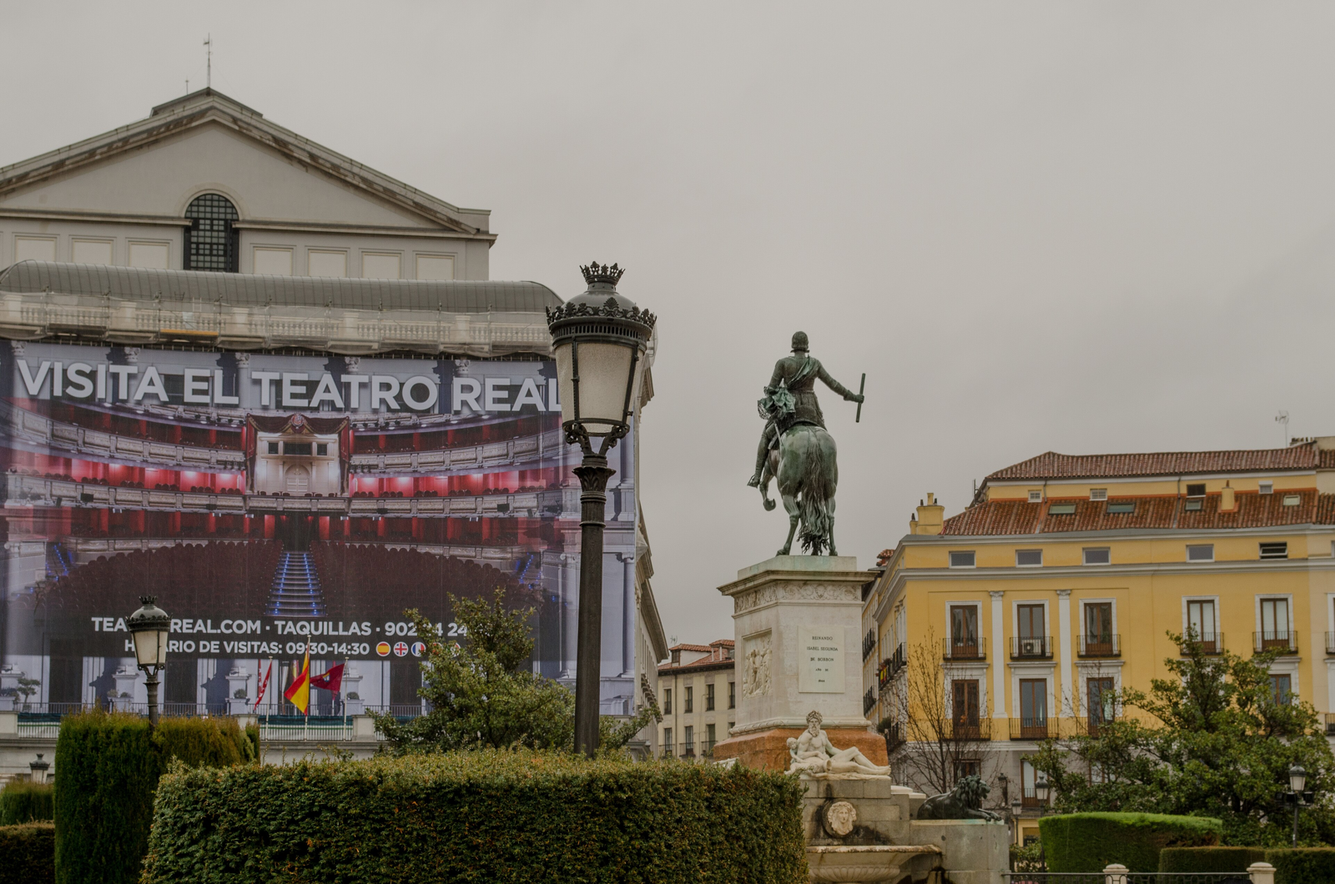fachada: (0, 88, 565, 761), (874, 444, 1335, 761)
poste: (532, 246, 668, 755), (111, 586, 188, 744)
